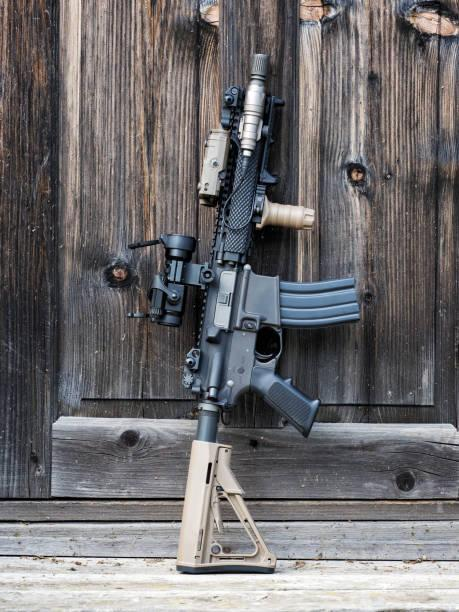larga: (128, 53, 361, 574)
